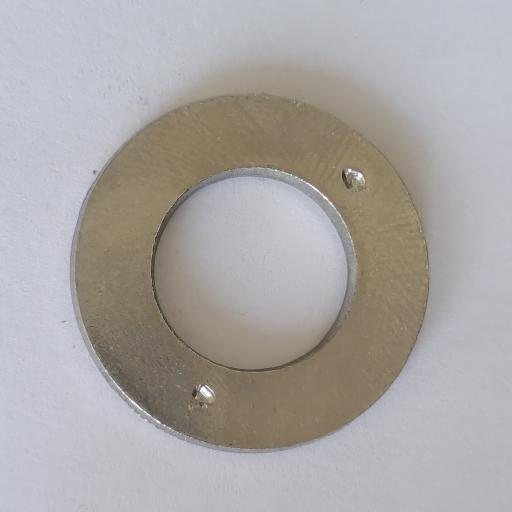circular_cavity: (341, 167, 369, 193), (191, 383, 217, 411)
